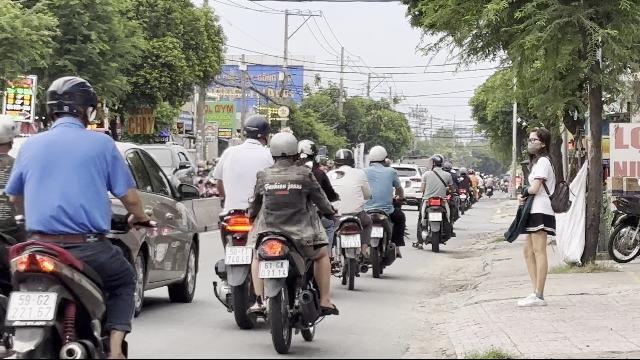helmet: (41, 76, 99, 126), (268, 130, 300, 164), (240, 113, 270, 143), (0, 114, 16, 148), (332, 148, 354, 168), (368, 145, 388, 165), (298, 140, 314, 160)
licenseplate: (8, 292, 56, 320), (260, 260, 288, 278), (226, 246, 250, 264), (342, 235, 361, 247), (370, 227, 382, 237)
motorcyclist: (0, 74, 152, 356), (249, 126, 345, 350), (206, 110, 274, 328), (326, 146, 370, 288), (362, 144, 408, 276)
